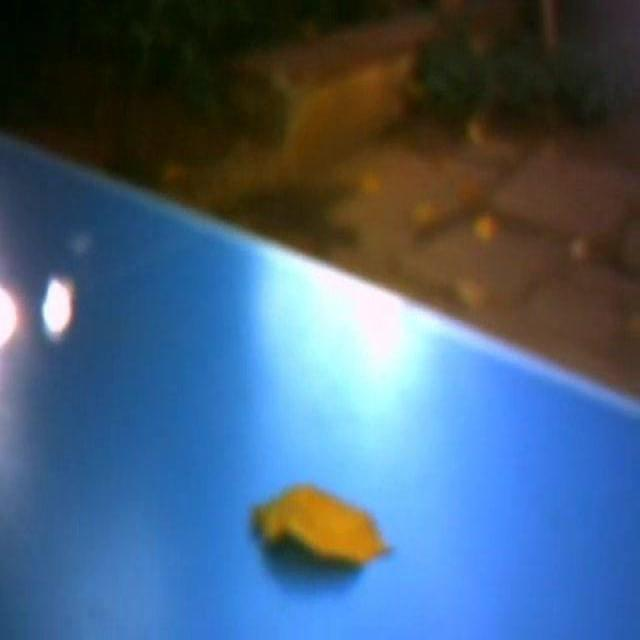other: (266, 249, 435, 414), (0, 254, 65, 377)
